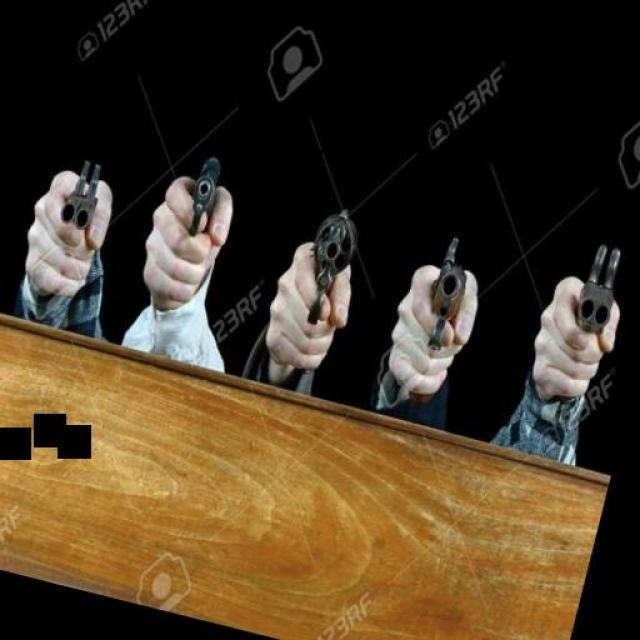gun: (408, 232, 478, 412), (290, 198, 365, 344), (176, 152, 224, 248)
